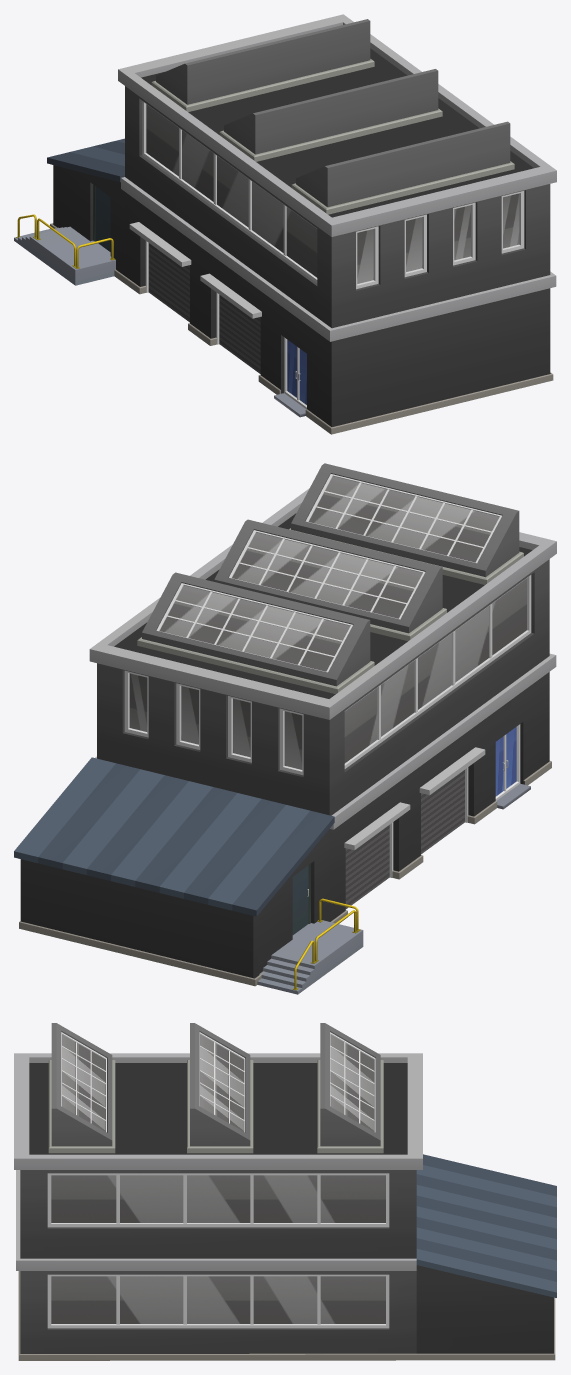
The model's file is Building_Factory_1_D.fbx.
3 renders of one model, top to bottom at view 1: azimuth 30°, elevation 25°; view 2: azimuth 150°, elevation 25°; view 3: azimuth 270°, elevation 25°, orthographic. The views are drawn at different scales.
Parts seen in each view (by area): view 1: Building_Factory_1_D; view 2: Building_Factory_1_D; view 3: Building_Factory_1_D.
Part boxes in pixels (box(x1,y1,x2,y2)): Building_Factory_1_D: box(14, 14, 556, 434); Building_Factory_1_D: box(14, 463, 556, 994); Building_Factory_1_D: box(14, 1023, 556, 1360).
Size of the model in its own units: 1025 by 931 by 1907.
